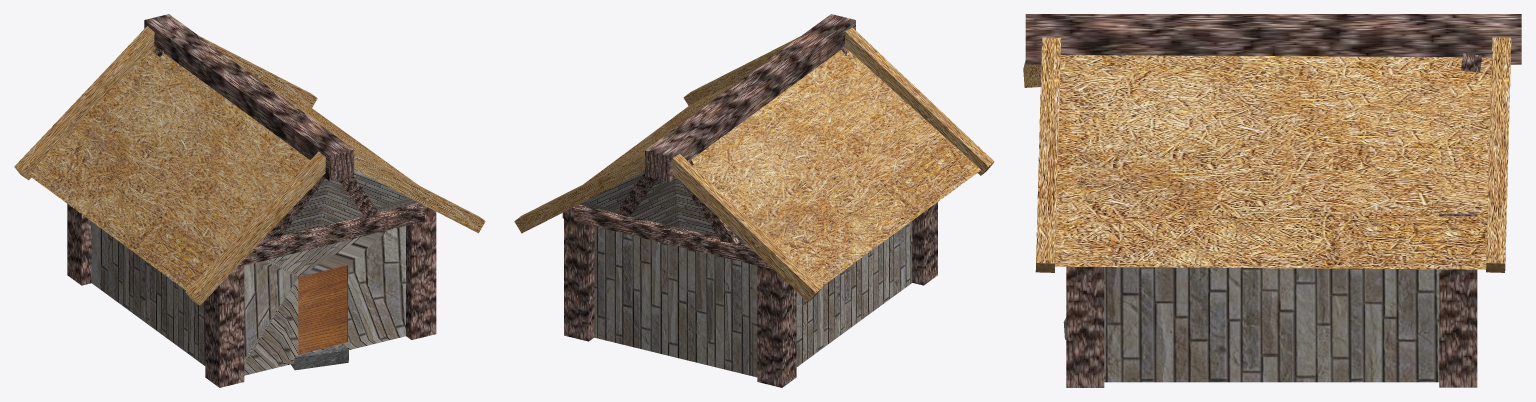
The model's file is house2.glb.
3 renders of one model, left to right at view 1: azimuth 30°, elevation 25°; view 2: azimuth 150°, elevation 25°; view 3: azimuth 270°, elevation 25°, orthographic. The views are drawn at different scales.
Visible parts, largest first — view 1: Plane.012, Cube.039, Cube.034, Cube.037, Cube.030, Cube.021, Cube.038, Cube.026, Cube.031, Plane.010, Cube.033, Cube.036 (+5 smaller); view 2: Plane.012, Cube.039, Cube.034, Cube.036, Cube.031, Cube.035, Plane.009, Cube.027, Cube.030, Cube.032, Cube.037, Plane.011 (+3 smaller); view 3: Plane.011, Cube.039, Cube.034, Cube.035, Cube.038, Cube.032, Cube.033, Cube.030.
Part boxes in pixels (<box>): Plane.012: <box>28,46,309,290</box>; Cube.039: <box>91,222,405,375</box>; Cube.034: <box>144,14,354,181</box>; Cube.037: <box>205,266,244,387</box>; Cube.030: <box>185,151,325,305</box>; Cube.021: <box>298,265,346,354</box>; Cube.038: <box>406,202,436,339</box>; Cube.026: <box>236,202,425,267</box>; Cube.031: <box>14,26,154,180</box>; Plane.010: <box>261,169,417,241</box>; Cube.033: <box>354,152,485,233</box>; Cube.036: <box>67,204,91,285</box>; Plane.012: <box>691,50,980,286</box>; Cube.039: <box>594,221,912,377</box>; Cube.034: <box>645,14,855,182</box>; Cube.036: <box>757,265,796,387</box>; Cube.031: <box>672,154,821,301</box>; Cube.035: <box>564,204,594,341</box>; Plane.009: <box>580,171,745,243</box>; Cube.027: <box>574,204,772,269</box>; Cube.030: <box>845,27,994,175</box>; Cube.032: <box>514,153,644,233</box>; Cube.037: <box>912,202,937,285</box>; Plane.011: <box>583,80,740,184</box>; Plane.011: <box>1055,55,1491,269</box>; Cube.039: <box>1104,267,1439,382</box>; Cube.034: <box>1025,14,1521,64</box>; Cube.035: <box>1439,213,1477,387</box>; Cube.038: <box>1066,267,1104,387</box>; Cube.032: <box>1486,37,1511,272</box>; Cube.033: <box>1035,37,1061,272</box>; Cube.030: <box>1023,60,1041,87</box>.
Size of the model in its own units: 24.18 by 17.54 by 26.12.
29 materials, 29 textured.
